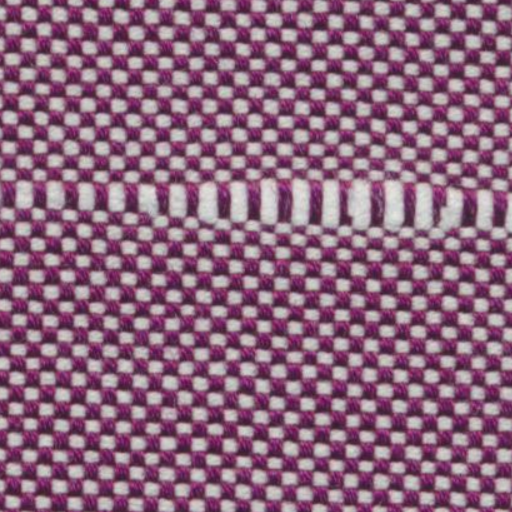DaiSha: (5, 158, 502, 244)
